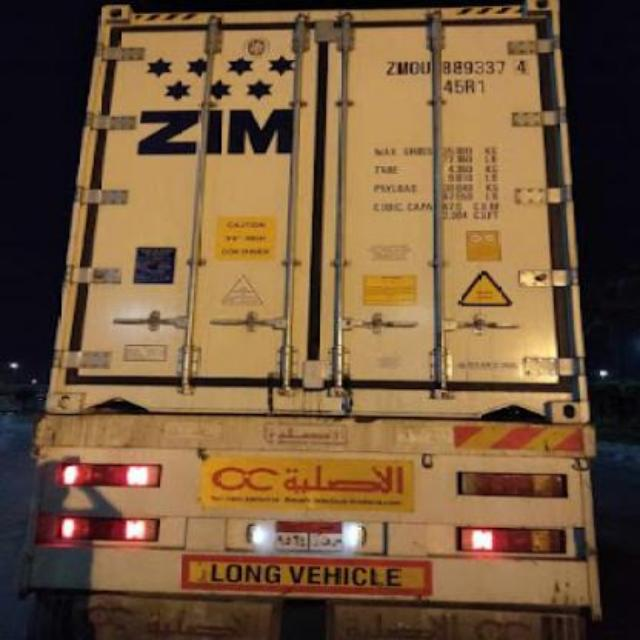3: (484, 62, 496, 78), (474, 60, 484, 76)
4: (514, 60, 526, 76)
7: (494, 59, 506, 75)
8: (454, 60, 464, 76), (442, 60, 450, 76)
9: (464, 60, 472, 76)
M: (394, 60, 410, 76)
O: (410, 60, 420, 76)
U: (420, 60, 430, 76)
Z: (386, 60, 396, 76)
